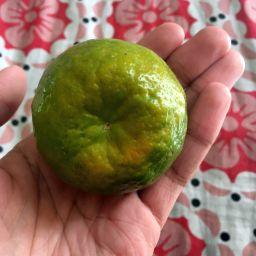Unripe: (31, 39, 189, 194)
